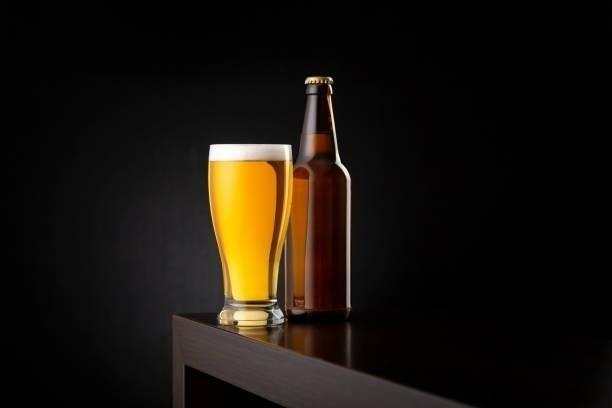bottle-glass: (285, 72, 354, 322)
glass-normal: (205, 140, 294, 330)
